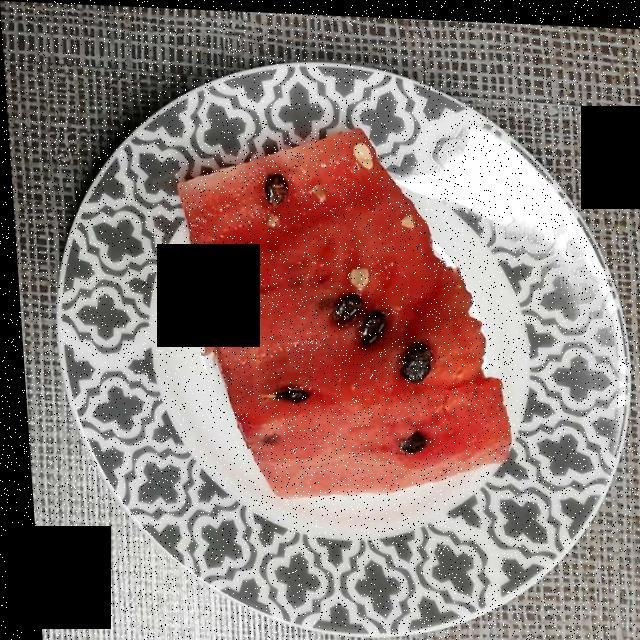watermelon: (181, 128, 501, 488)
